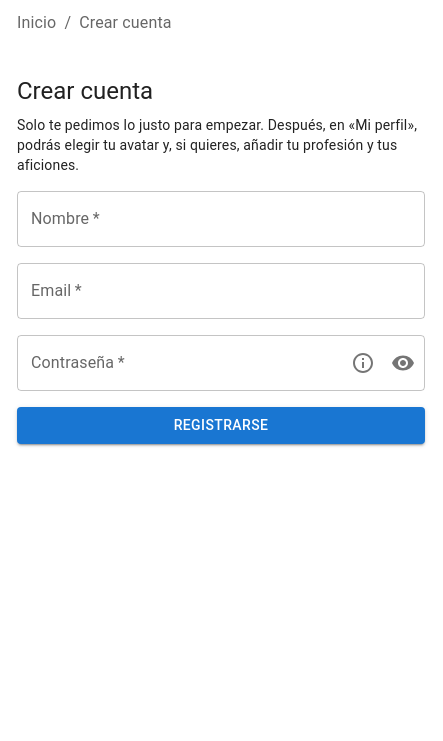
Test: RegisterForm (RF-01) › contraseña fuerte (SEC-01) › avisa si la contraseña contiene el nombre de quien se registra
The image size is (443, 741).
In the field labelled "Nombre *": coordinates (221, 220) [17, 192, 425, 248], type "Marina"
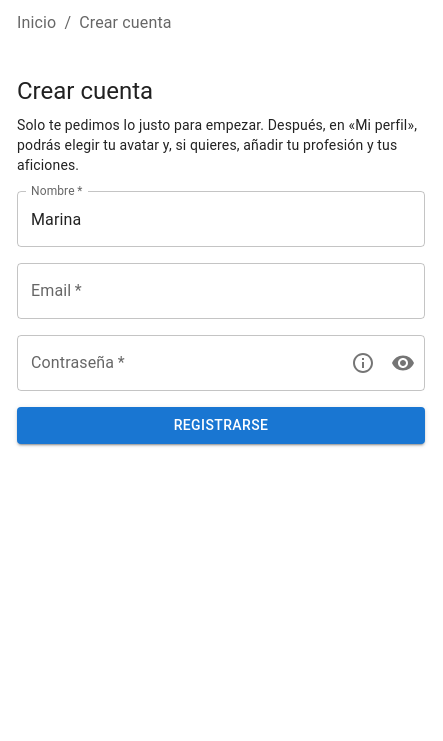
In the field labelled "Email *": coordinates (221, 292) [17, 264, 425, 320], type "ana@ejemplo.com"
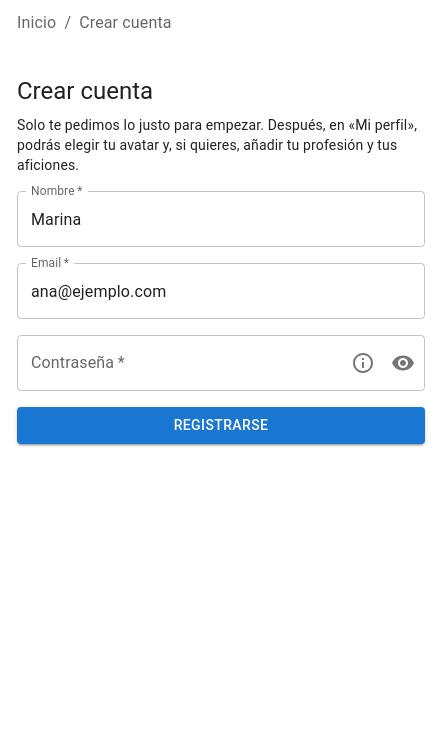
In the password field labelled "Contraseña *": coordinates (176, 364) [17, 336, 335, 392], type "Marina-Lluvia-2026!"
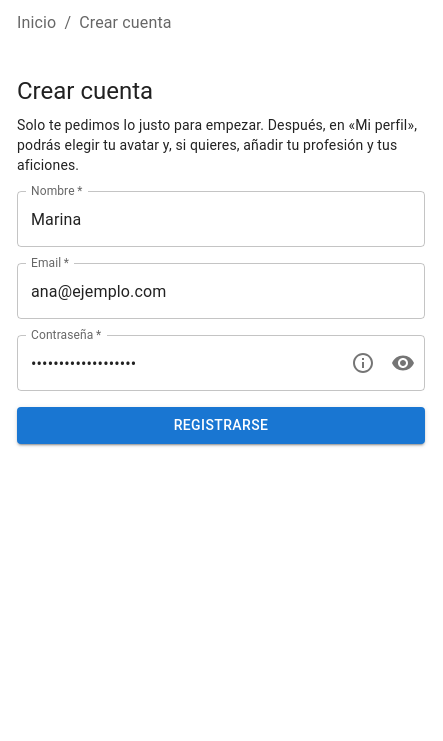
Click the button "Registrarse": coordinates (221, 426) [17, 408, 425, 444]
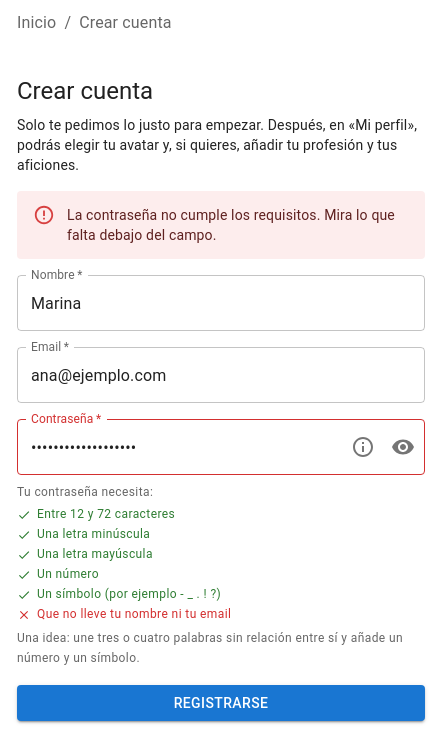
Expected: the text "Que no lleve tu nombre ni tu email" is shown, [37, 605, 231, 625]
